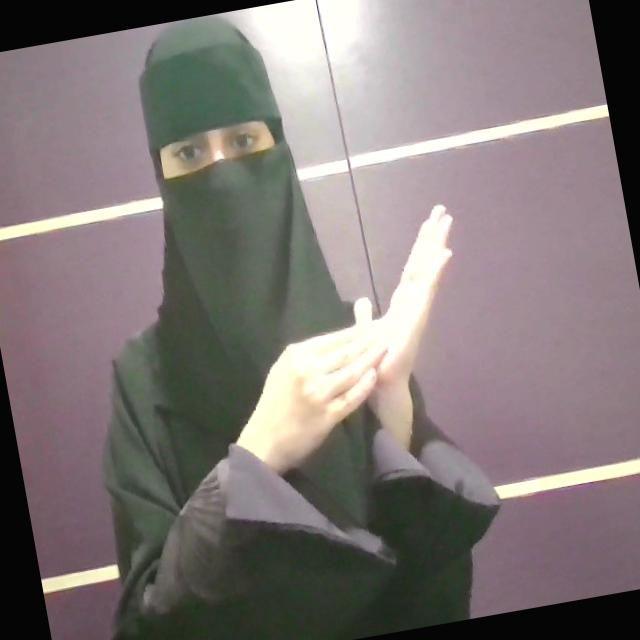complaint: (190, 194, 496, 486)
